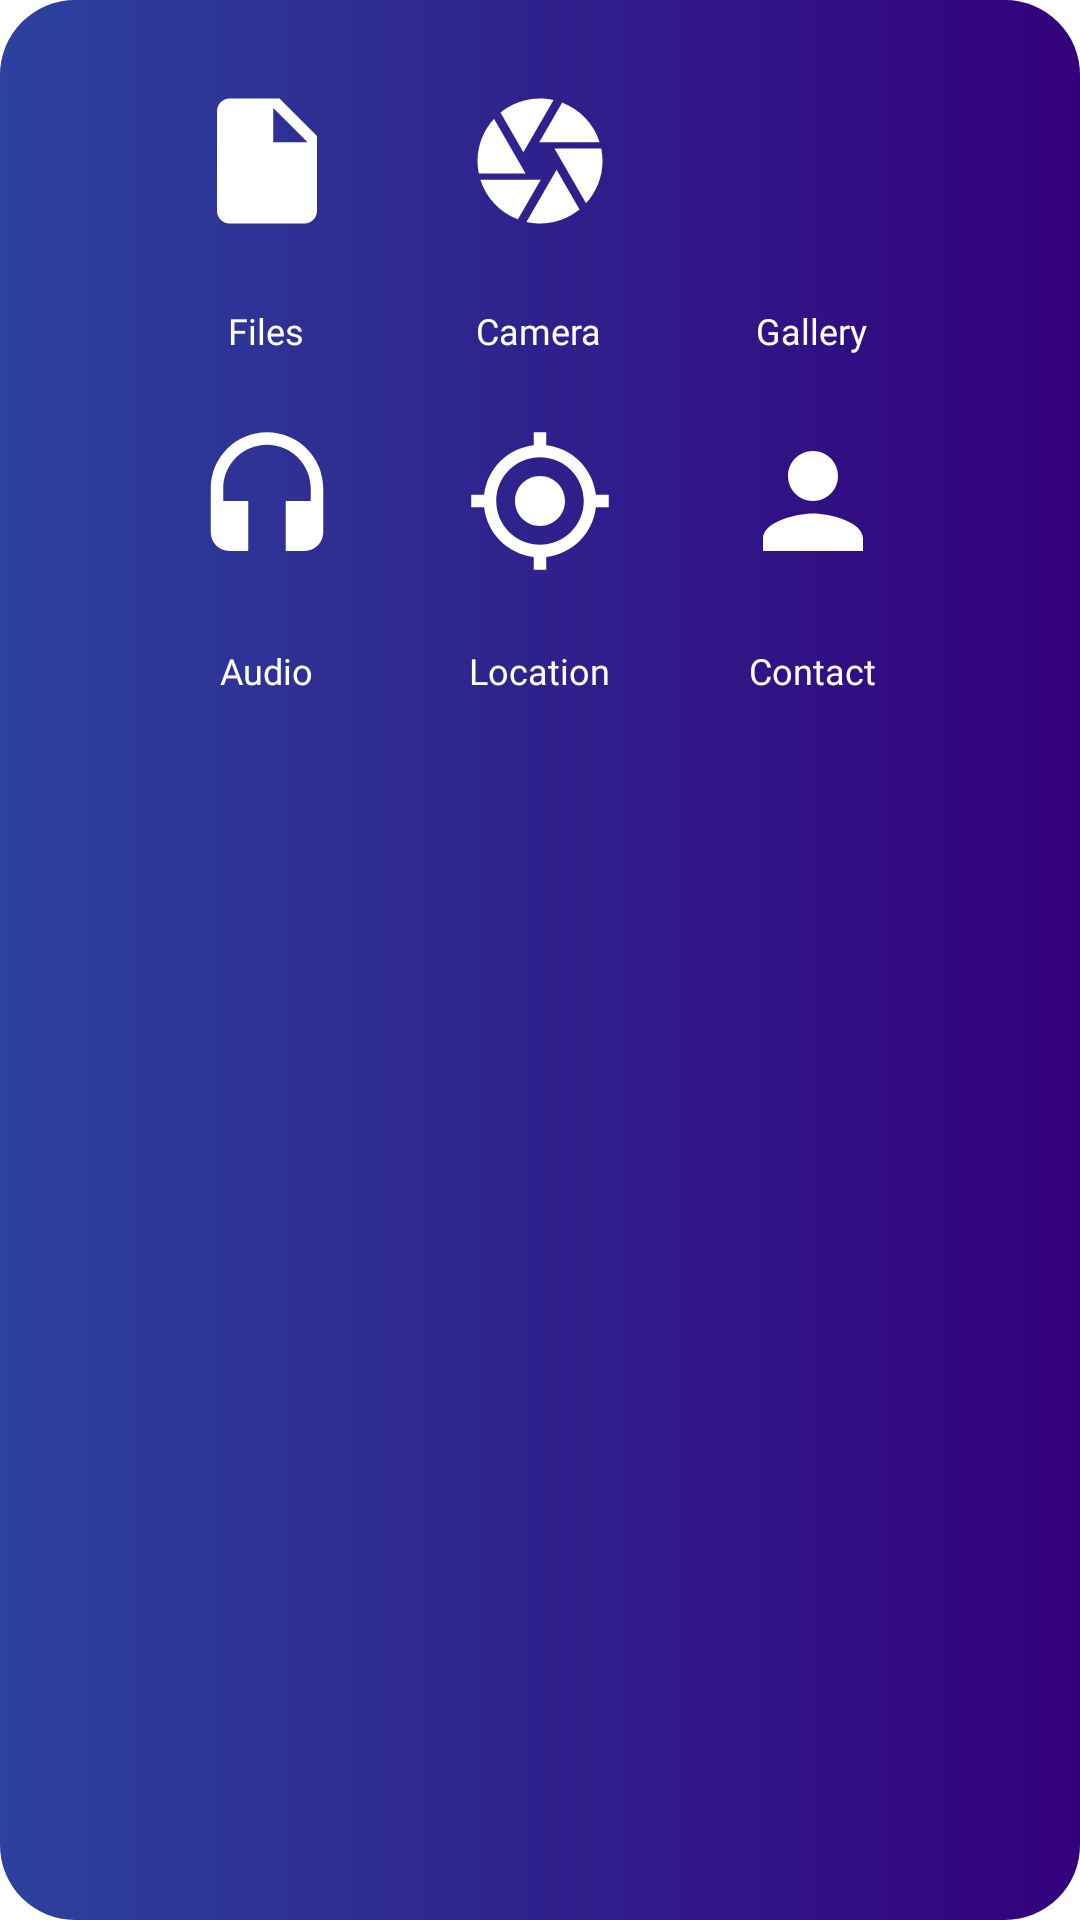

Point at icon controls on the screen. Image size 1080*1920, points as point (x, y).
headset: point (267, 491)
person: point (813, 501)
